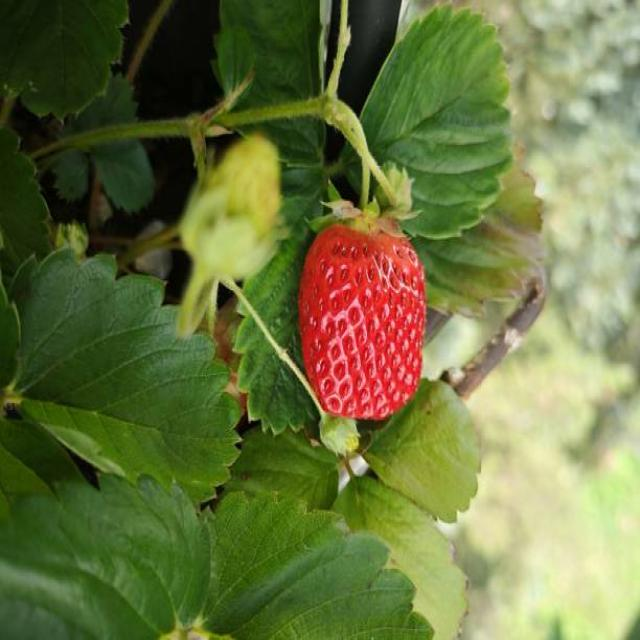Healthy Fruit: (300, 222, 424, 419)
